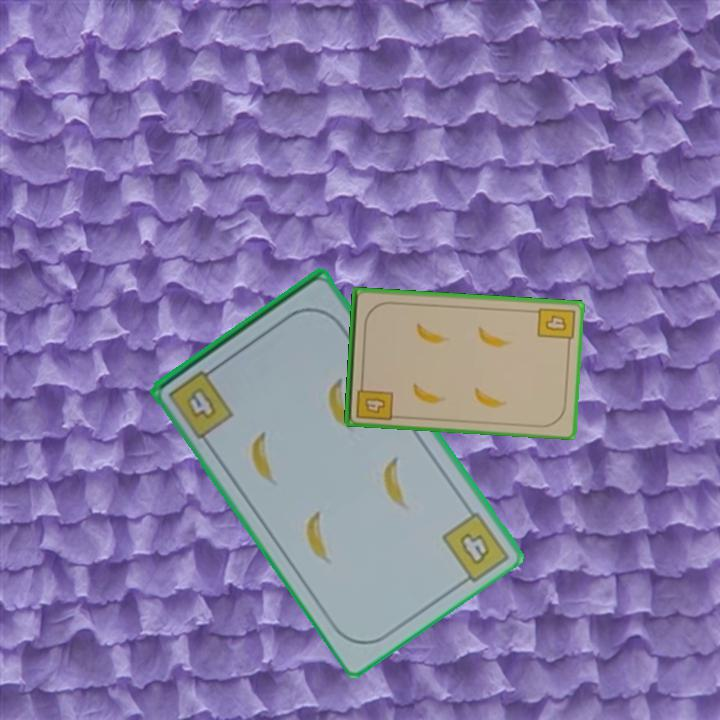4b: (164, 361, 237, 441), (352, 377, 395, 424), (534, 304, 577, 349), (456, 529, 494, 569)
